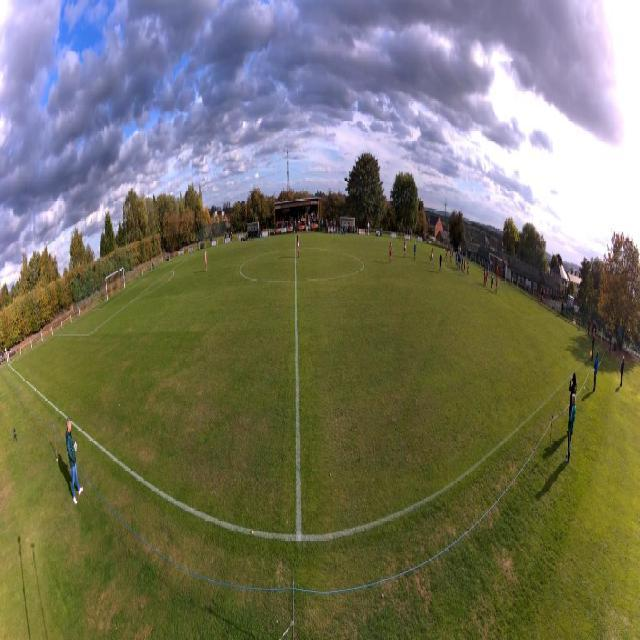ball: (434, 262, 435, 266)
player: (429, 247, 435, 266), (296, 236, 300, 258), (438, 253, 442, 274), (389, 243, 393, 264), (204, 251, 208, 272), (462, 259, 466, 277), (485, 270, 489, 288), (495, 277, 499, 294), (491, 272, 494, 291), (483, 267, 486, 286), (404, 239, 407, 258), (414, 242, 417, 259), (444, 249, 448, 260), (455, 251, 457, 268), (458, 253, 460, 270), (461, 255, 463, 272), (467, 260, 469, 277), (450, 248, 452, 264), (459, 254, 461, 270), (451, 247, 453, 262), (497, 265, 499, 280), (457, 251, 458, 269)
